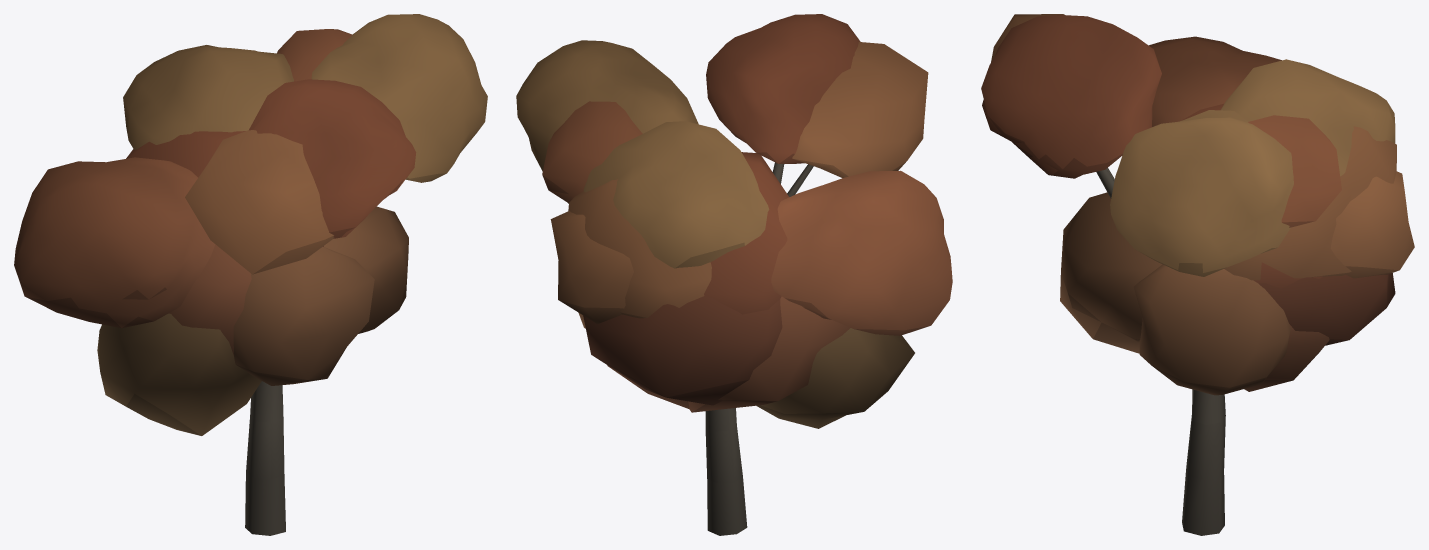
File: lenga_a.glb
The picture shows the model from 3 angles, left to right: view 1: azimuth 30°, elevation 25°; view 2: azimuth 150°, elevation 25°; view 3: azimuth 270°, elevation 25°; orthographic projection. The views are drawn at different scales.
Parts seen in each view (by area): view 1: LengaACopa, LengaATronco; view 2: LengaACopa, LengaATronco; view 3: LengaACopa, LengaATronco.
Boxes of the visible parts, <box> form: LengaACopa: <box>14,14,487,435</box>; LengaATronco: <box>245,381,285,535</box>; LengaACopa: <box>516,14,952,428</box>; LengaATronco: <box>705,162,813,535</box>; LengaACopa: <box>981,14,1414,395</box>; LengaATronco: <box>1096,168,1225,535</box>.
Size of what is drawn, in the model's own units: 5.35 by 5.52 by 4.35.
